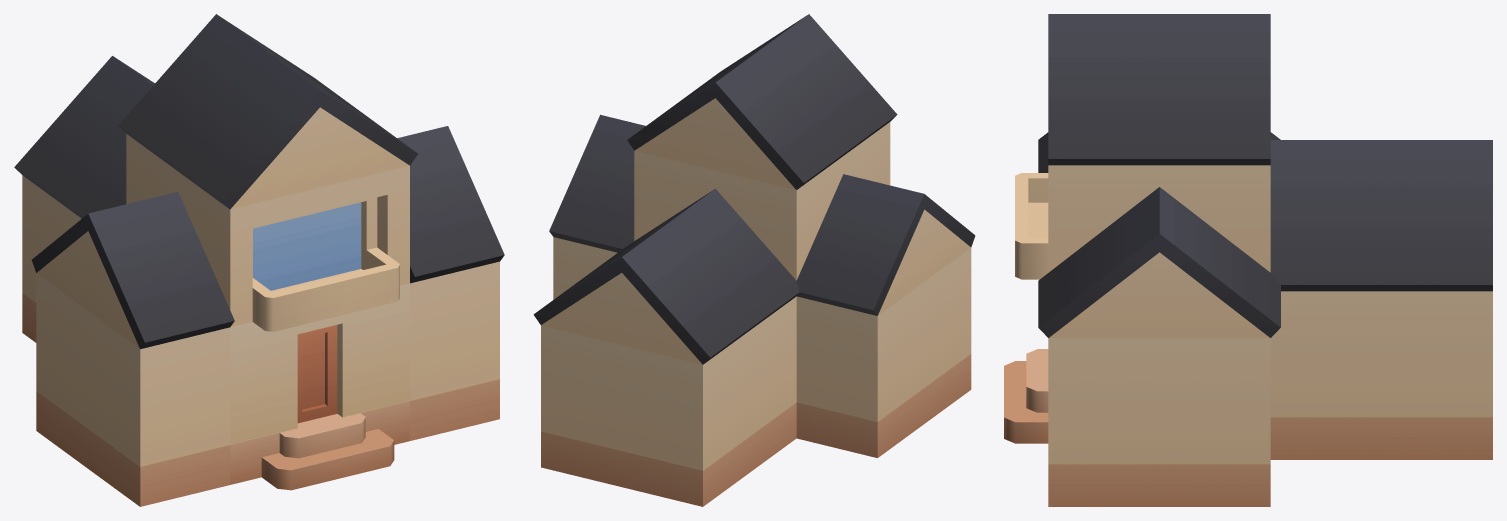
File: house_s_c.glb
The picture shows the model from 3 angles, left to right: view 1: azimuth 30°, elevation 25°; view 2: azimuth 150°, elevation 25°; view 3: azimuth 270°, elevation 25°; orthographic projection. The views are drawn at different scales.
Visible parts, largest first — view 1: building-sample-house-c; view 2: building-sample-house-c; view 3: building-sample-house-c.
Part boxes in pixels (x1,y1,x2,y2): building-sample-house-c: (14,14,504,506); building-sample-house-c: (533,14,975,506); building-sample-house-c: (1004,14,1492,506).
Bounding box in the file's own units: 2 × 1.98 × 2.2.
1 material, 1 textured.
